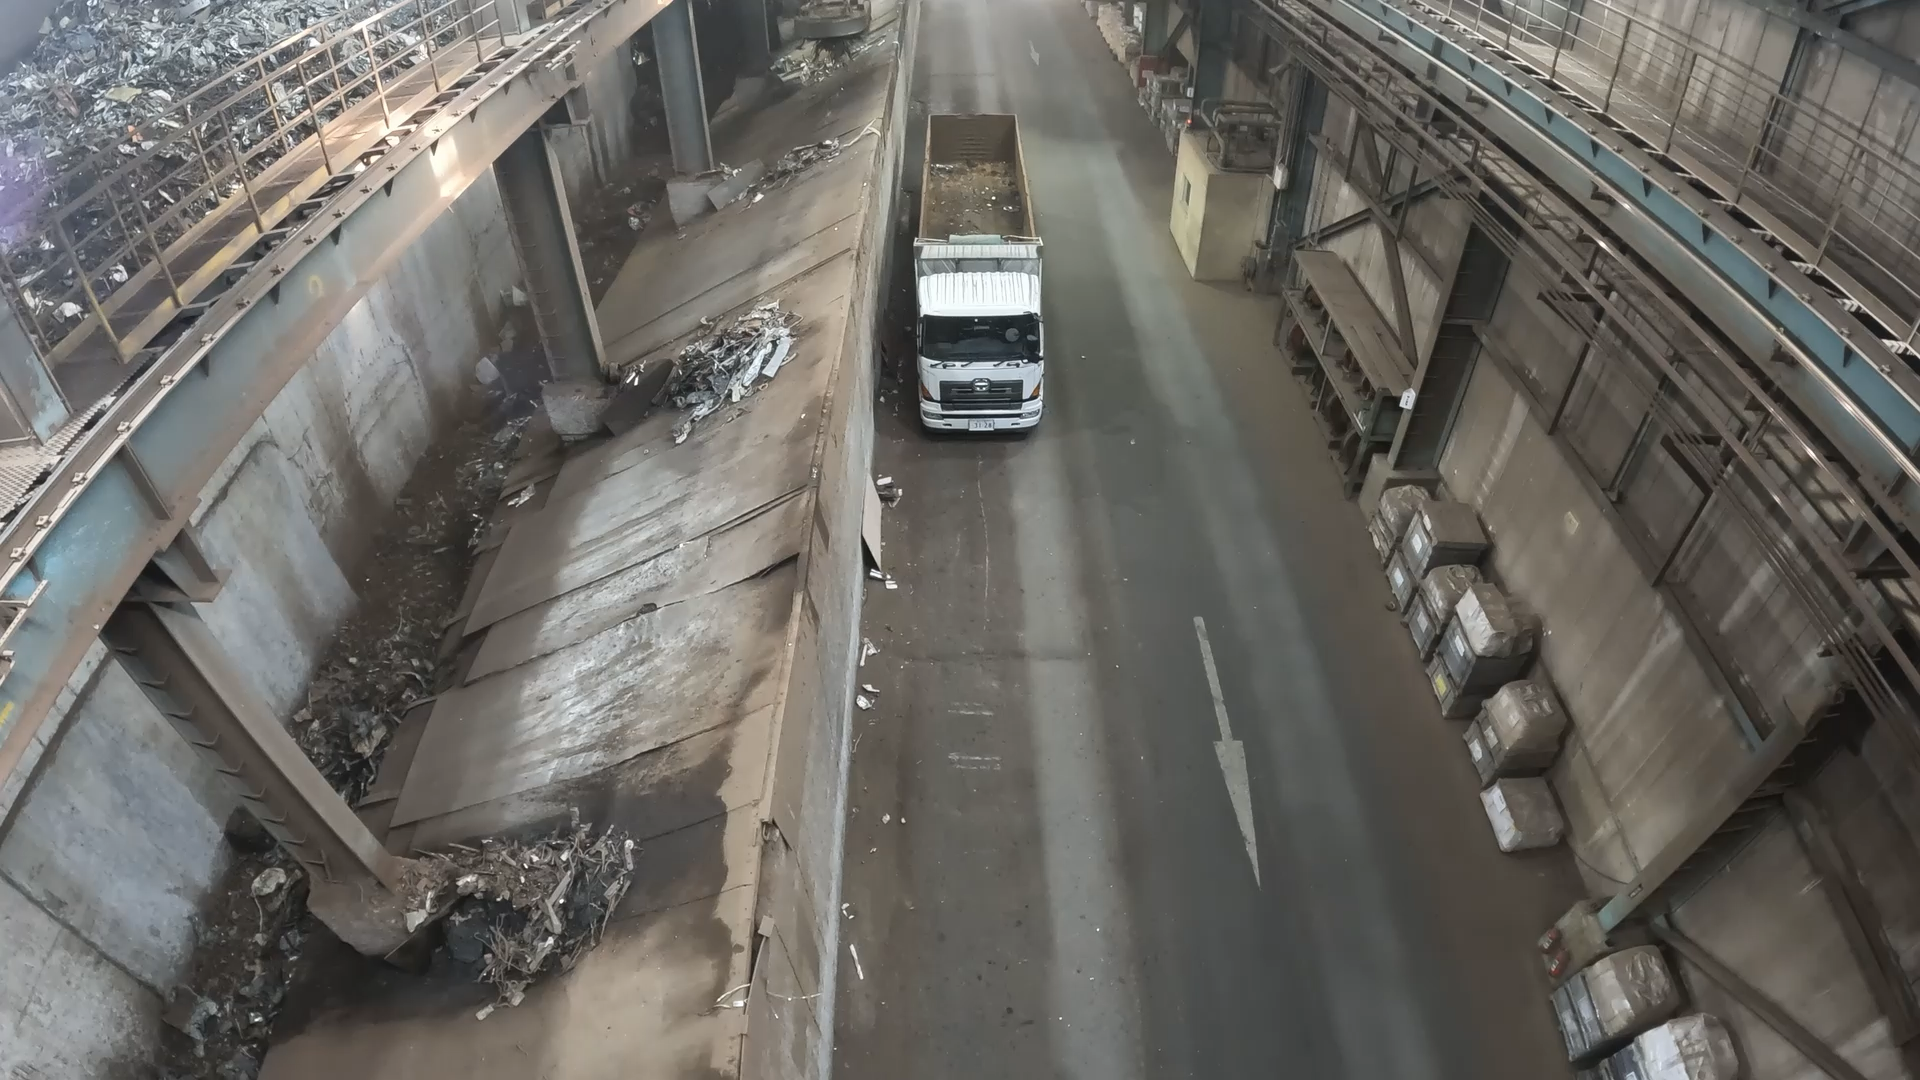truck: (918, 112, 1036, 244)
